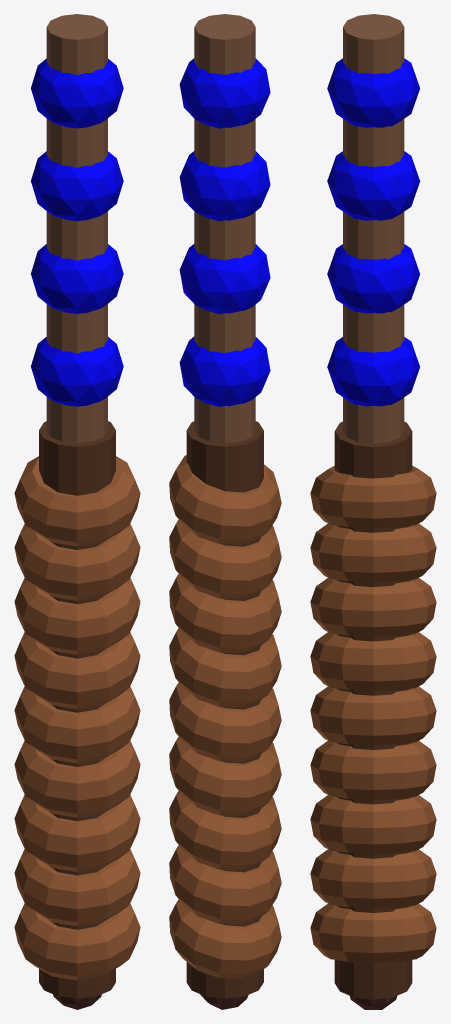
Rendered from Wand 430.glb.
The picture shows the model from 3 angles, left to right: view 1: azimuth 90°, elevation 25°; view 2: azimuth 150°, elevation 25°; view 3: azimuth 270°, elevation 25°; orthographic projection.
Visible parts, largest first — view 1: GeneratedWand; view 2: GeneratedWand; view 3: GeneratedWand.
Boxes of the visible parts, x1,y1,x2,y2 form: GeneratedWand: (14,14,140,1009); GeneratedWand: (169,14,281,1009); GeneratedWand: (310,14,436,1009).
Bounding box in the file's own units: 0.0497 × 0.4988 × 0.0581.
